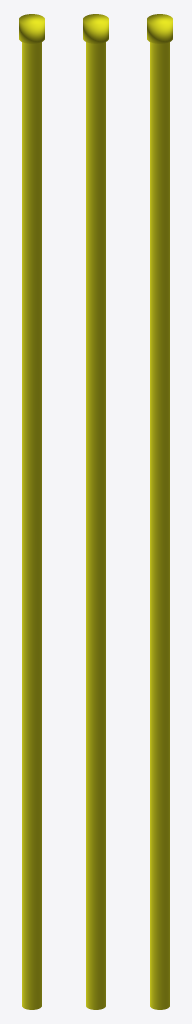
File: Asta+.fbx
The picture shows the model from 3 angles, left to right: view 1: azimuth 90°, elevation 25°; view 2: azimuth 150°, elevation 25°; view 3: azimuth 270°, elevation 25°; orthographic projection.
Parts seen in each view (by area): view 1: Asta; view 2: Asta; view 3: Asta.
Boxes of the visible parts, x1,y1,x2,y2 form: Asta: [19, 14, 44, 1009]; Asta: [83, 14, 108, 1009]; Asta: [147, 14, 172, 1009].
Bounding box in the file's own units: 37.61 × 1555 × 37.61.
